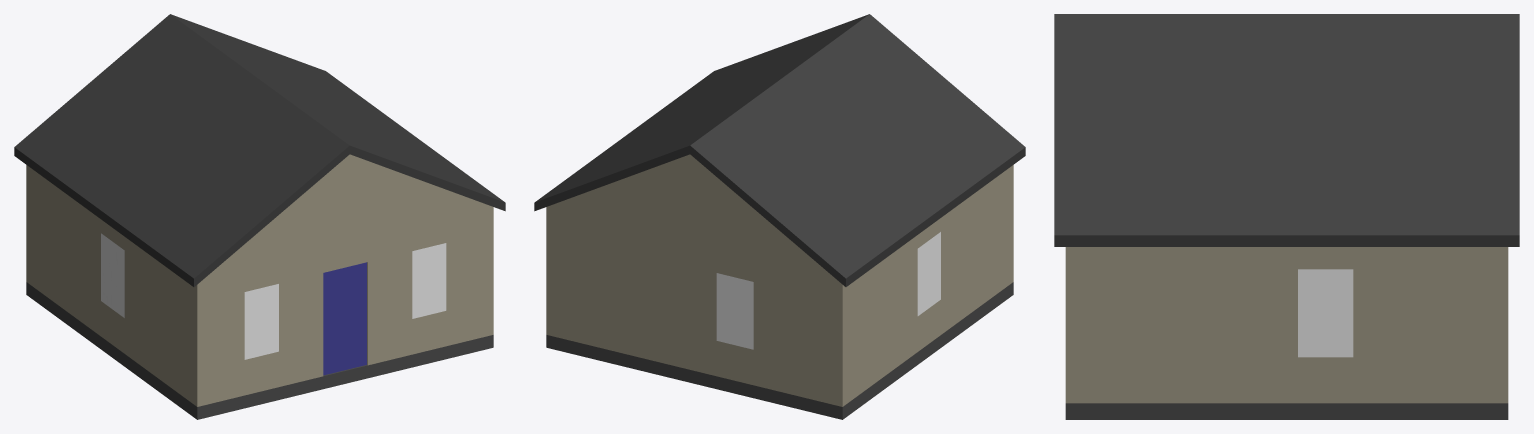
Rendered from House1.1_Parts.glb.
3 views of the same model, side by side, from view 1: azimuth 30°, elevation 25°; view 2: azimuth 150°, elevation 25°; view 3: azimuth 270°, elevation 25° (orthographic). The views are drawn at different scales.
Parts seen in each view (by area): view 1: Roof, Wall Ext.002, Wall Ext, Roof Base, Floor; view 2: Roof, Wall Ext S, Wall Ext, Roof Base, Floor; view 3: Roof, Wall Ext.003, Floor.
Boxes of the visible parts, x1,y1,x2,y2 form: Roof: [14, 14, 505, 286]; Wall Ext.002: [197, 206, 493, 406]; Wall Ext: [26, 165, 197, 406]; Roof Base: [209, 154, 490, 274]; Floor: [26, 282, 493, 419]; Roof: [534, 14, 1025, 286]; Wall Ext S: [546, 206, 842, 406]; Wall Ext: [842, 165, 1013, 406]; Roof Base: [549, 154, 830, 274]; Floor: [546, 282, 1013, 419]; Roof: [1054, 14, 1519, 246]; Wall Ext.003: [1065, 247, 1508, 403]; Floor: [1065, 403, 1508, 419].
Bounding box in the file's own units: 6.31 × 4.67 × 6.3.
